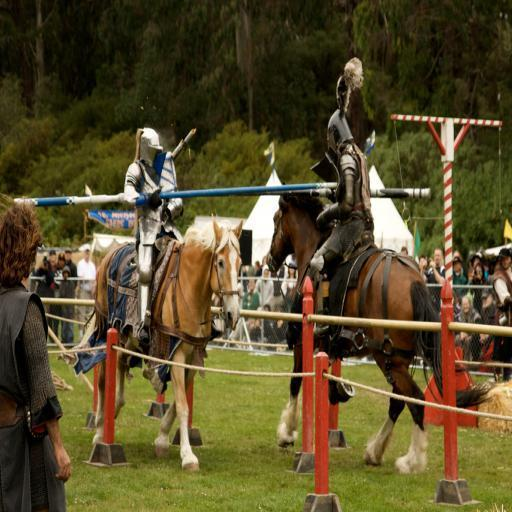horse: (262, 188, 486, 470), (80, 210, 243, 472)
